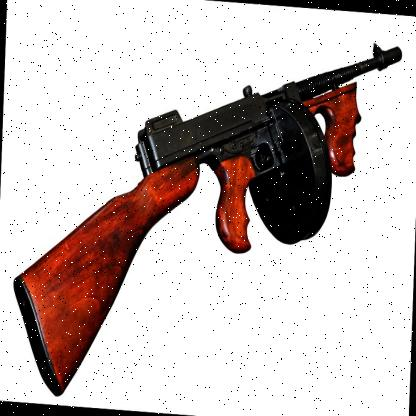rifle: (9, 8, 404, 416)
